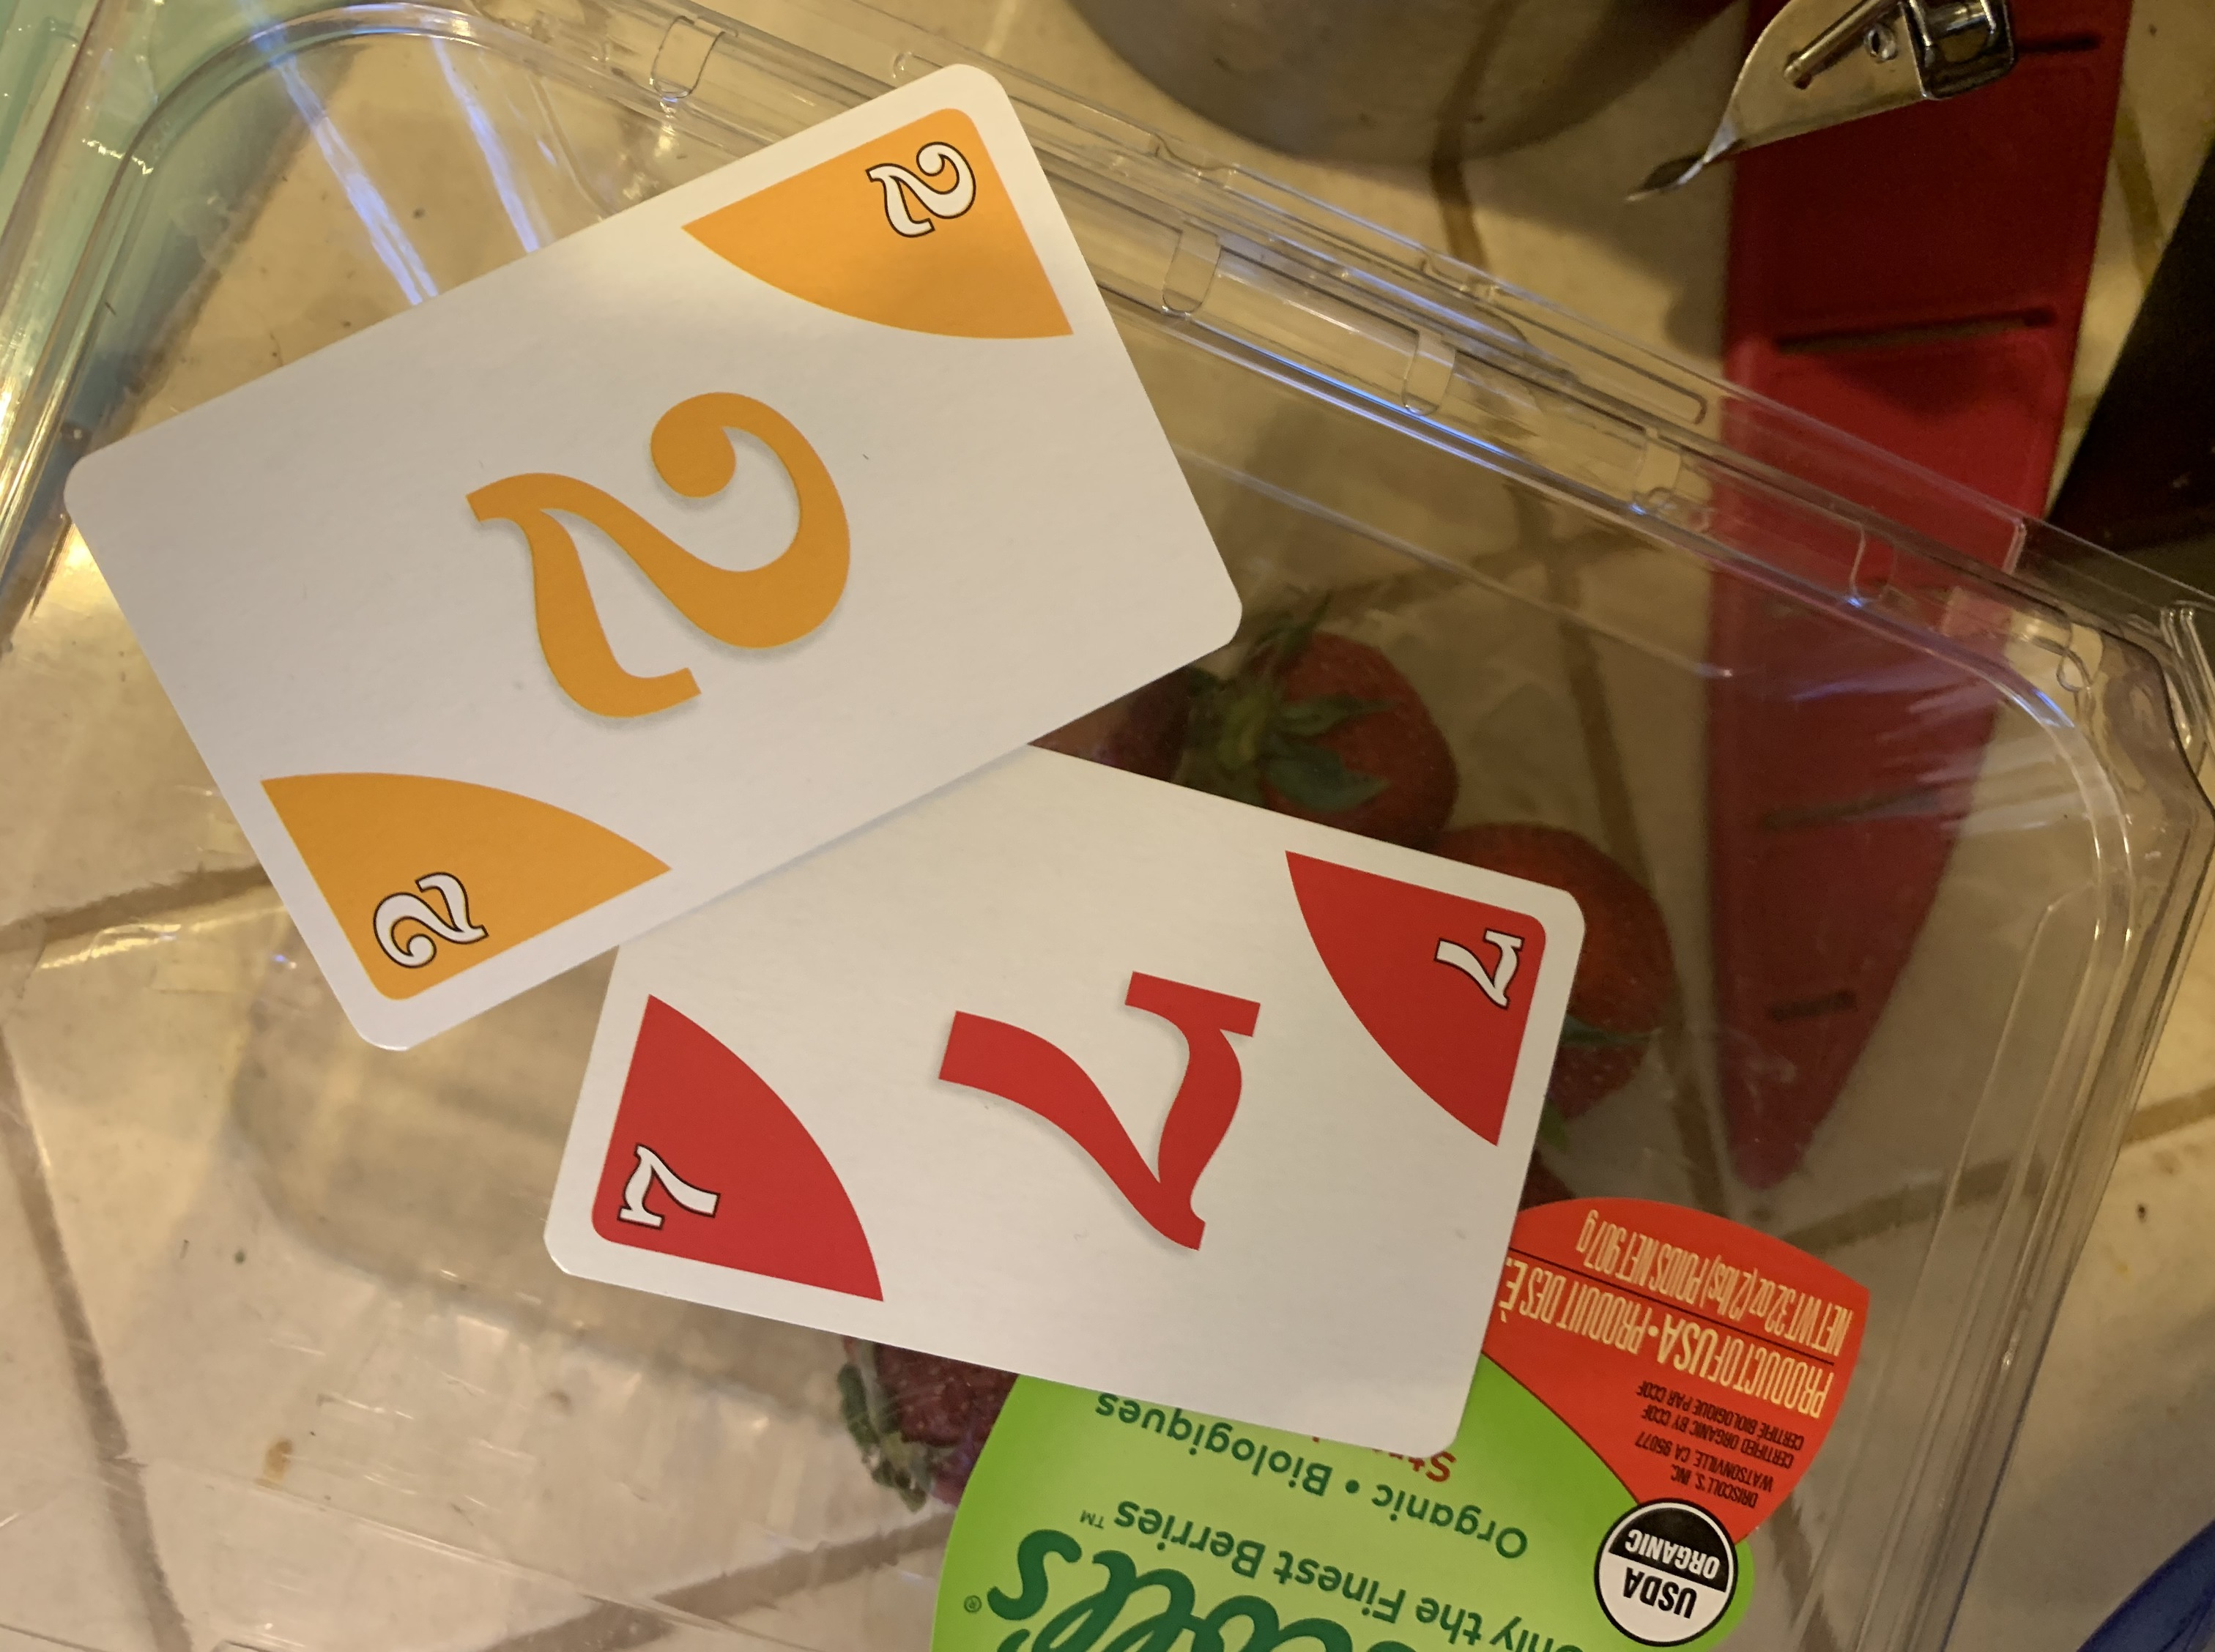two: (47, 59, 1255, 1059)
